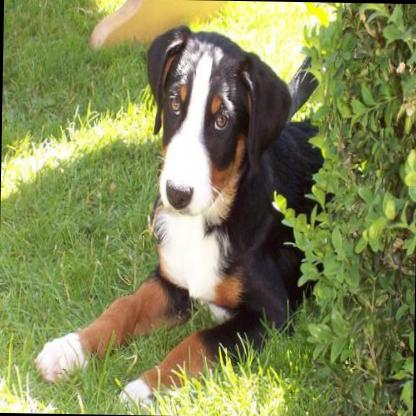Appenzeller: (25, 17, 363, 416)
